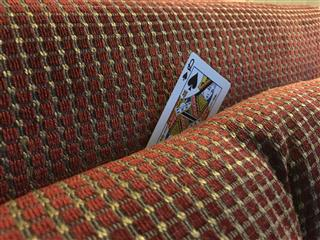QueenOfSpades: (144, 50, 231, 149)
